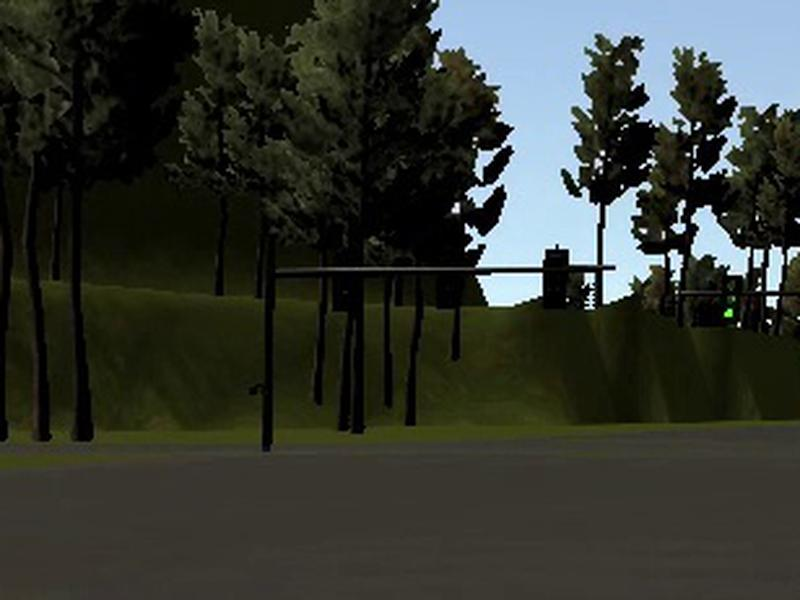Green: (718, 275, 744, 322)
